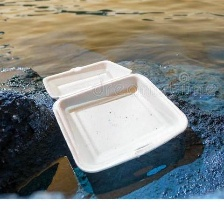foam_box: (36, 55, 192, 177)
